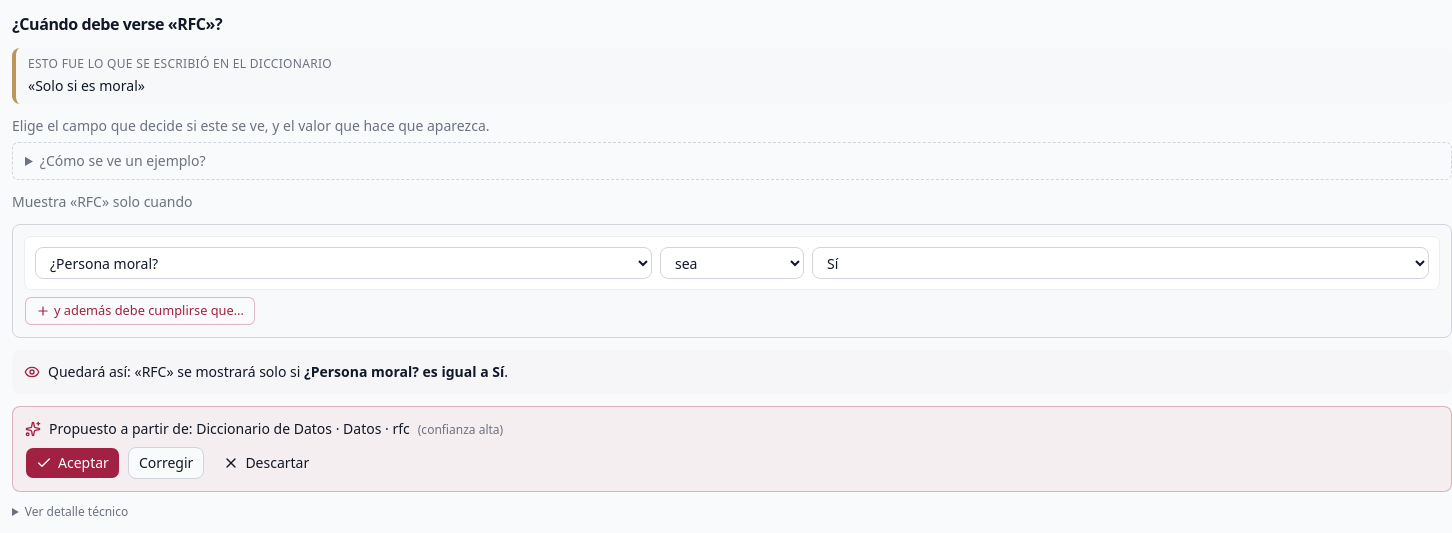
Test: descartar anota y vuelve al modo manual sin resolver
Click the button "Descartar": (266, 463) x1=212 y1=447 x2=320 y2=479
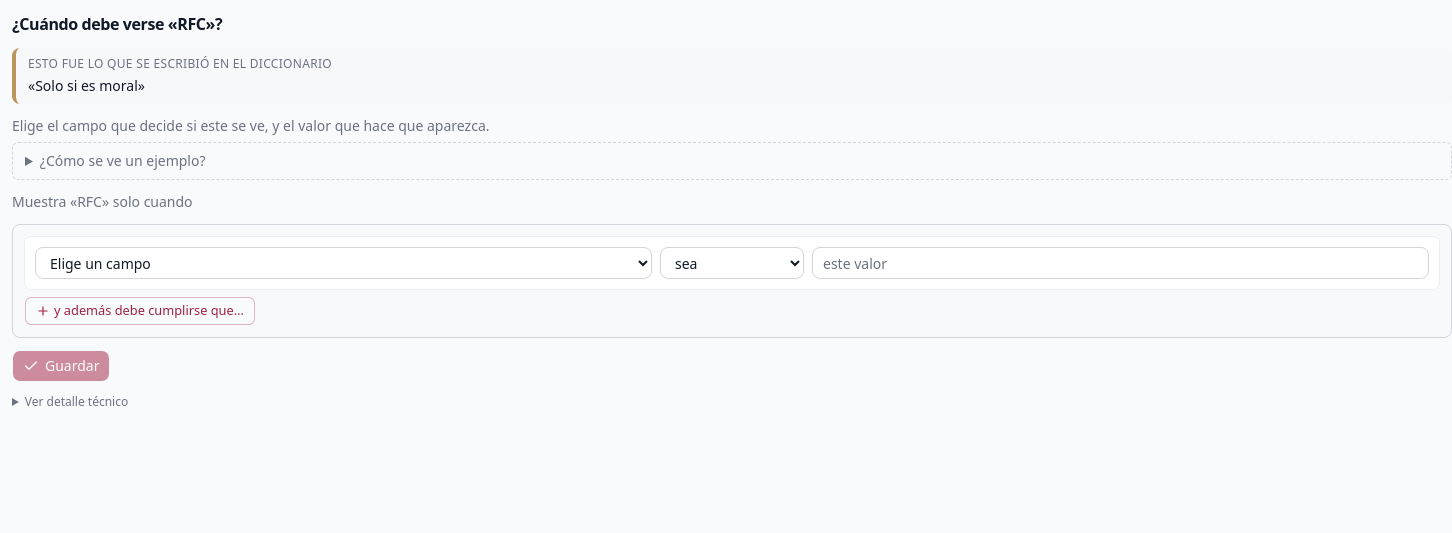
Check: the text "Propuesto a partir de" is gone
Check: the button "Guardar" is shown, box x1=12 y1=350 x2=110 y2=382
